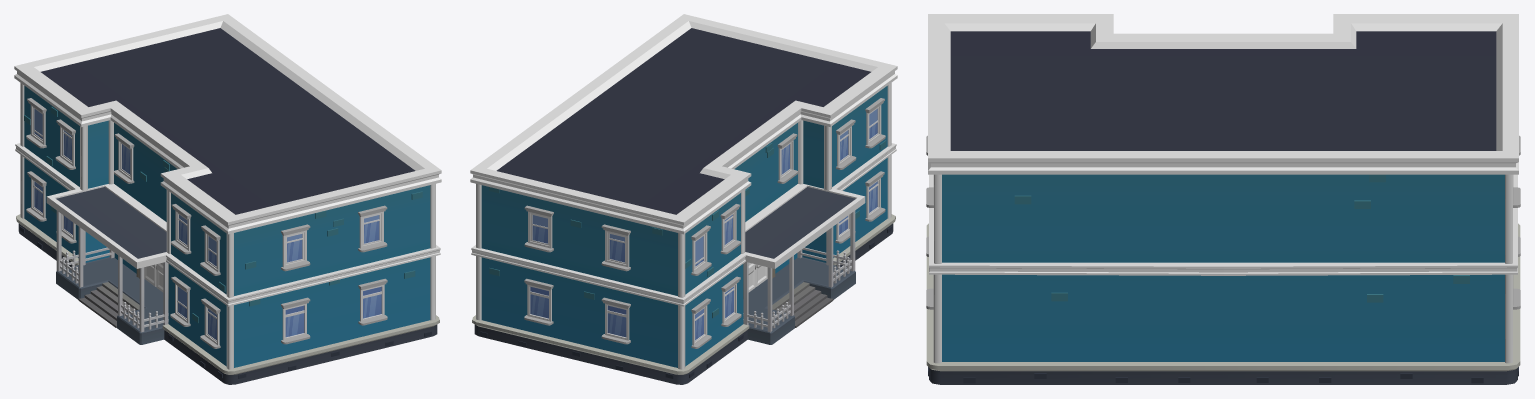
File: Building_5_1_H.fbx
3 views of the same model, side by side, from view 1: azimuth 30°, elevation 25°; view 2: azimuth 150°, elevation 25°; view 3: azimuth 270°, elevation 25° (orthographic). The views are drawn at different scales.
Visible parts, largest first — view 1: Building_5_1_H; view 2: Building_5_1_H; view 3: Building_5_1_H.
Boxes of the visible parts, box(x1,y1,x2,y2) form: Building_5_1_H: box(14, 14, 441, 384); Building_5_1_H: box(470, 14, 897, 384); Building_5_1_H: box(926, 14, 1520, 384).
Size of the model in its own units: 1251 by 804 by 1908.
